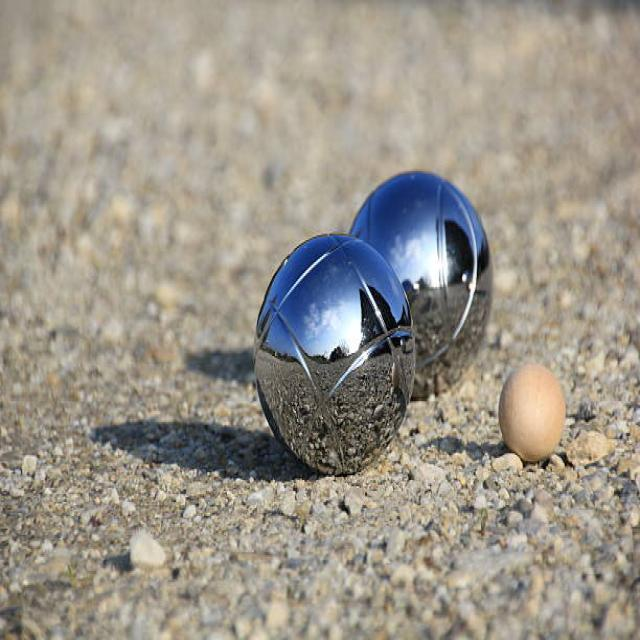hatball: (488, 357, 571, 468)
petanque: (247, 224, 420, 507), (347, 166, 500, 413)
